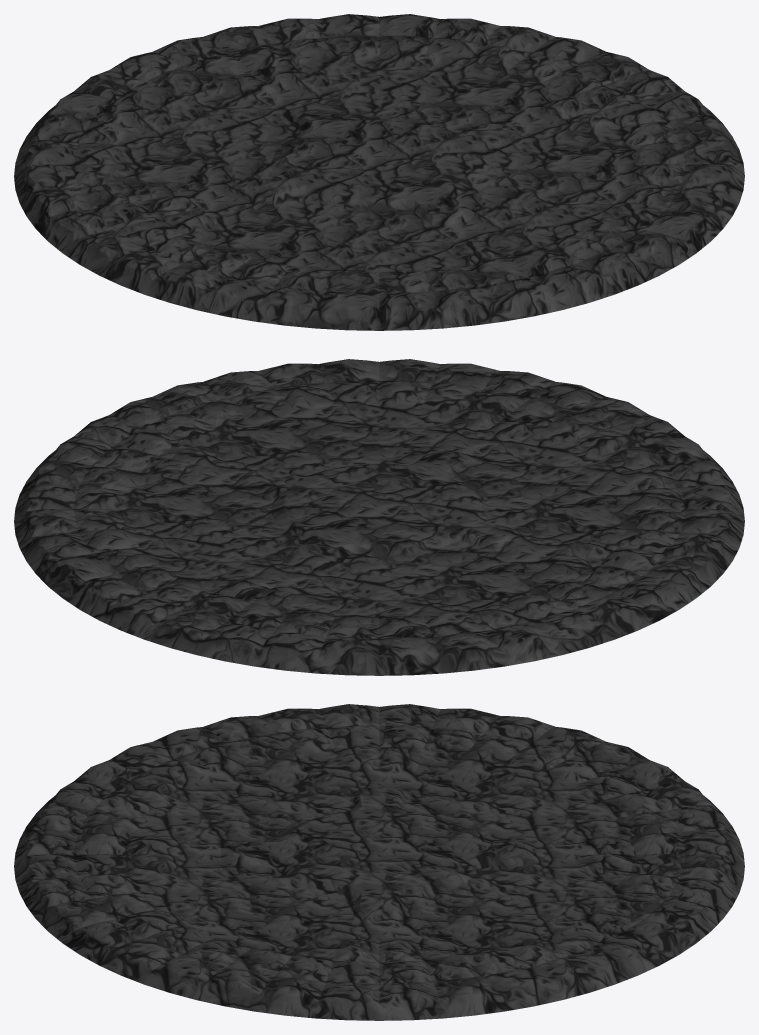
File: StoneCircle.FBX
The picture shows the model from 3 angles, top to bottom: view 1: azimuth 30°, elevation 25°; view 2: azimuth 150°, elevation 25°; view 3: azimuth 270°, elevation 25°; orthographic projection.
Visible parts, largest first — view 1: Cylinder001; view 2: Cylinder001; view 3: Cylinder001.
Boxes of the visible parts, left/top/right/bottom form: Cylinder001: left=14, top=14, right=744, bottom=330; Cylinder001: left=14, top=359, right=744, bottom=675; Cylinder001: left=14, top=704, right=744, bottom=1020.
Size of the model in its own units: 242 by 6.37 by 242.
